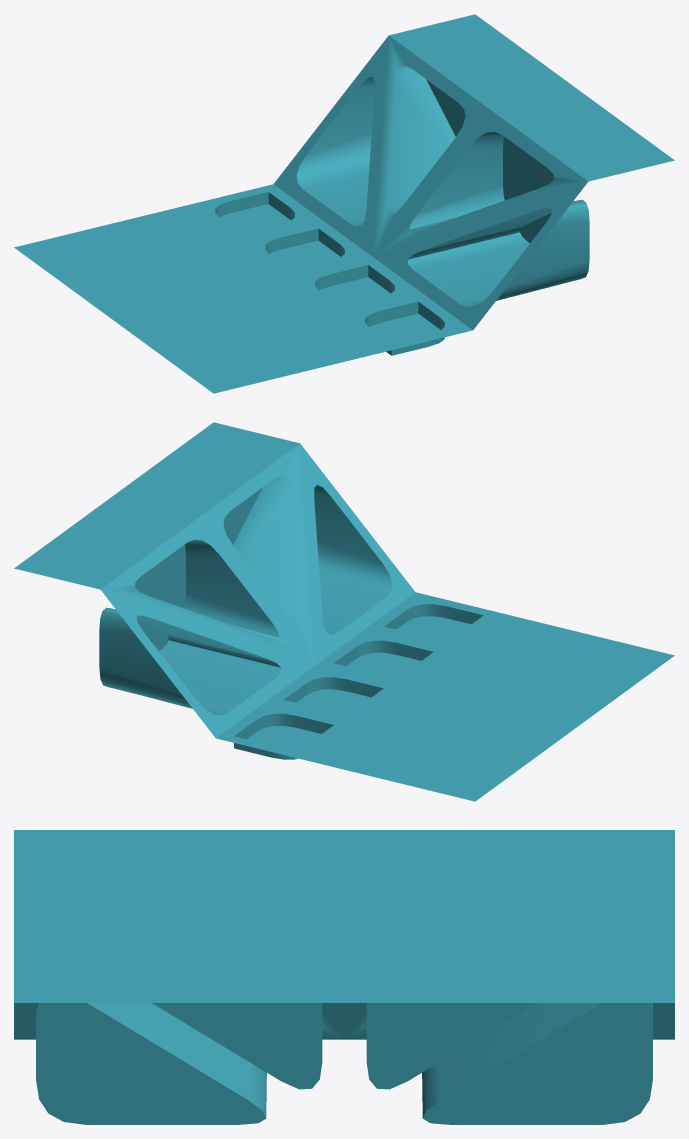
The model's file is Floor_Tranzit_A.FBX.
3 renders of one model, top to bottom at view 1: azimuth 30°, elevation 25°; view 2: azimuth 150°, elevation 25°; view 3: azimuth 270°, elevation 25°, orthographic. The views are drawn at different scales.
Parts seen in each view (by area): view 1: Floor_Tranzit_A; view 2: Floor_Tranzit_A; view 3: Floor_Tranzit_A.
Boxes of the visible parts, left/top/right/bottom form: Floor_Tranzit_A: left=14, top=14, right=674, bottom=393; Floor_Tranzit_A: left=14, top=422, right=674, bottom=801; Floor_Tranzit_A: left=14, top=830, right=674, bottom=1124.
Size of the model in its own units: 400 by 110 by 300.
